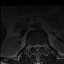CCS_normal: (36, 41, 38, 52)
LFS_stenosis: (41, 42, 43, 49)
LLS_normal: (38, 42, 41, 50)
RFS_stenosis: (31, 42, 33, 49)
RLS_normal: (33, 42, 36, 50)
